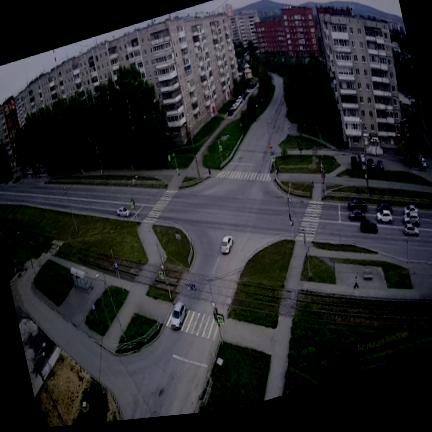bench: (364, 268, 372, 279)
busStop: (70, 267, 92, 292)
busStopSign: (111, 250, 124, 289), (92, 304, 100, 325)
car: (347, 195, 368, 216), (171, 302, 187, 329), (360, 219, 377, 233), (221, 236, 233, 254), (377, 210, 393, 223), (404, 213, 420, 226), (349, 209, 366, 221), (404, 223, 419, 236), (404, 204, 418, 215), (377, 202, 392, 212), (117, 207, 130, 217), (367, 158, 375, 169), (351, 156, 357, 168), (378, 160, 384, 170)
human: (354, 277, 359, 288), (276, 164, 279, 174), (131, 164, 134, 171), (208, 168, 210, 174)
lightPole: (88, 137, 105, 179), (64, 187, 78, 232), (195, 154, 200, 177)
pedestianCross: (180, 310, 218, 339), (145, 190, 176, 222), (299, 201, 323, 241), (217, 170, 271, 182)
pedestrianSign: (158, 256, 172, 299)
sign: (176, 234, 183, 255)
trafficLight: (212, 301, 224, 343), (128, 176, 138, 221), (168, 153, 180, 178), (288, 187, 294, 227), (321, 163, 326, 191), (271, 152, 276, 176), (219, 140, 223, 163)
truck: (359, 152, 367, 171)
